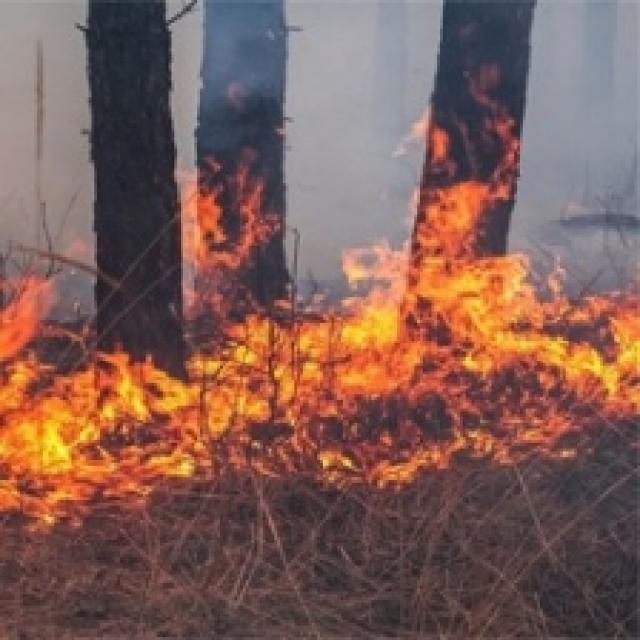Fire: (0, 230, 638, 515), (408, 102, 522, 227), (176, 154, 275, 229)
